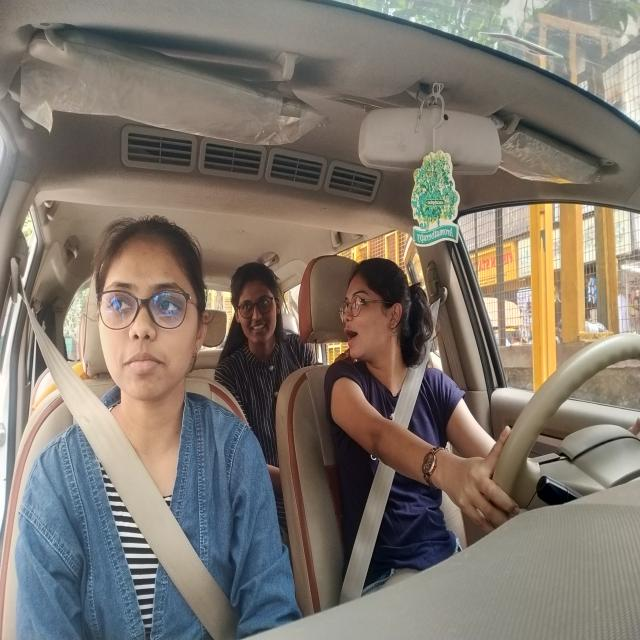LeftRight: (343, 254, 432, 375)
person: (94, 217, 209, 409), (228, 261, 290, 352)
talking: (342, 322, 362, 347)
